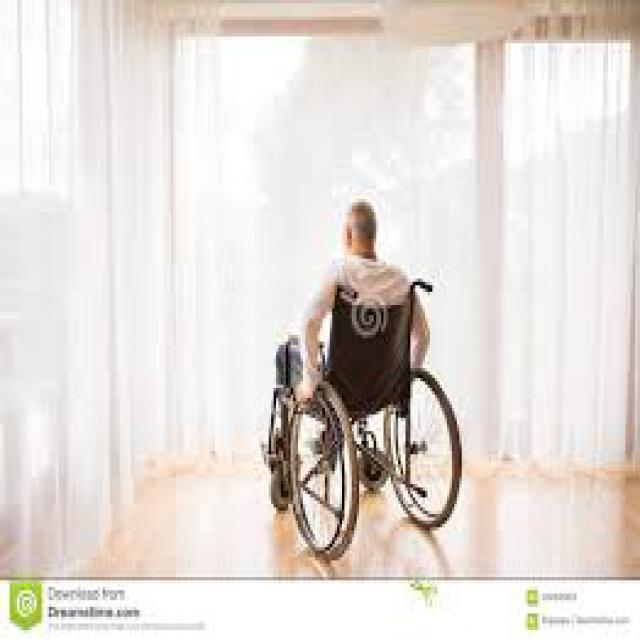wheelchairs: (256, 258, 472, 560)
